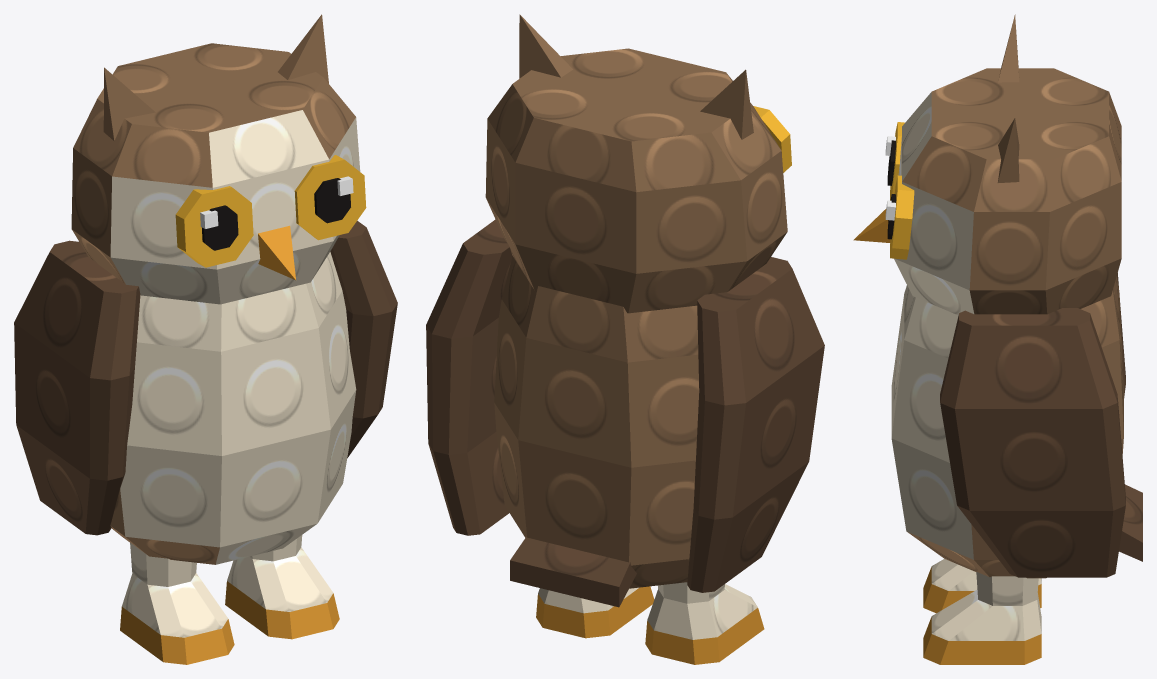
The model's file is Owl.glb.
The picture shows the model from 3 angles, left to right: view 1: azimuth 30°, elevation 25°; view 2: azimuth 150°, elevation 25°; view 3: azimuth 270°, elevation 25°; orthographic projection. The views are drawn at different scales.
Parts seen in each view (by area): view 1: Body, WingR, LegR, WingL, LegL; view 2: Body, WingR, WingL, LegR, LegL; view 3: Body, WingL, LegL, LegR.
Boxes of the visible parts, bbox=[...] form: Body: bbox=[71, 14, 366, 564]; WingR: bbox=[14, 240, 140, 535]; LegR: bbox=[120, 542, 234, 664]; WingL: bbox=[330, 220, 397, 457]; LegL: bbox=[225, 535, 339, 639]; Body: bbox=[485, 14, 791, 607]; WingR: bbox=[687, 257, 824, 592]; WingL: bbox=[426, 219, 512, 535]; LegR: bbox=[645, 582, 764, 664]; LegL: bbox=[536, 586, 654, 638]; Body: bbox=[853, 14, 1142, 578]; WingL: bbox=[940, 308, 1125, 577]; LegL: bbox=[923, 572, 1041, 664]; LegR: bbox=[923, 559, 1041, 613].
Bounding box in the file's own units: 1.64 × 2.91 × 1.37.
1 material, 1 textured.
